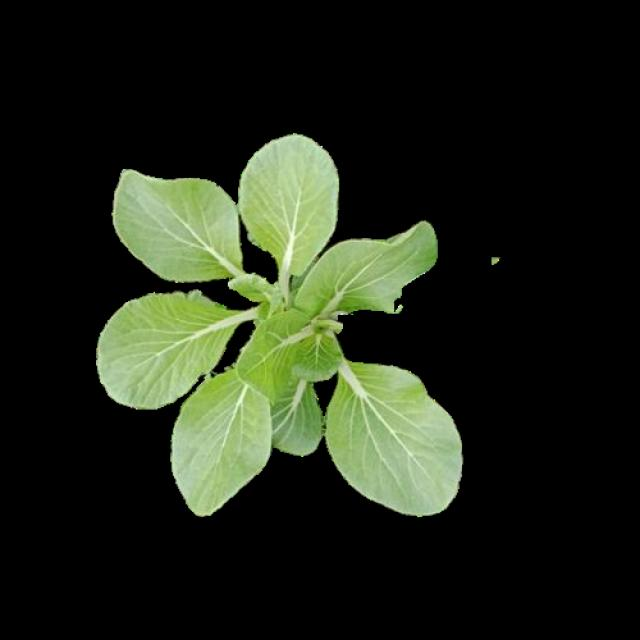healthy: (96, 133, 461, 512)
not-mature: (99, 136, 464, 514)
